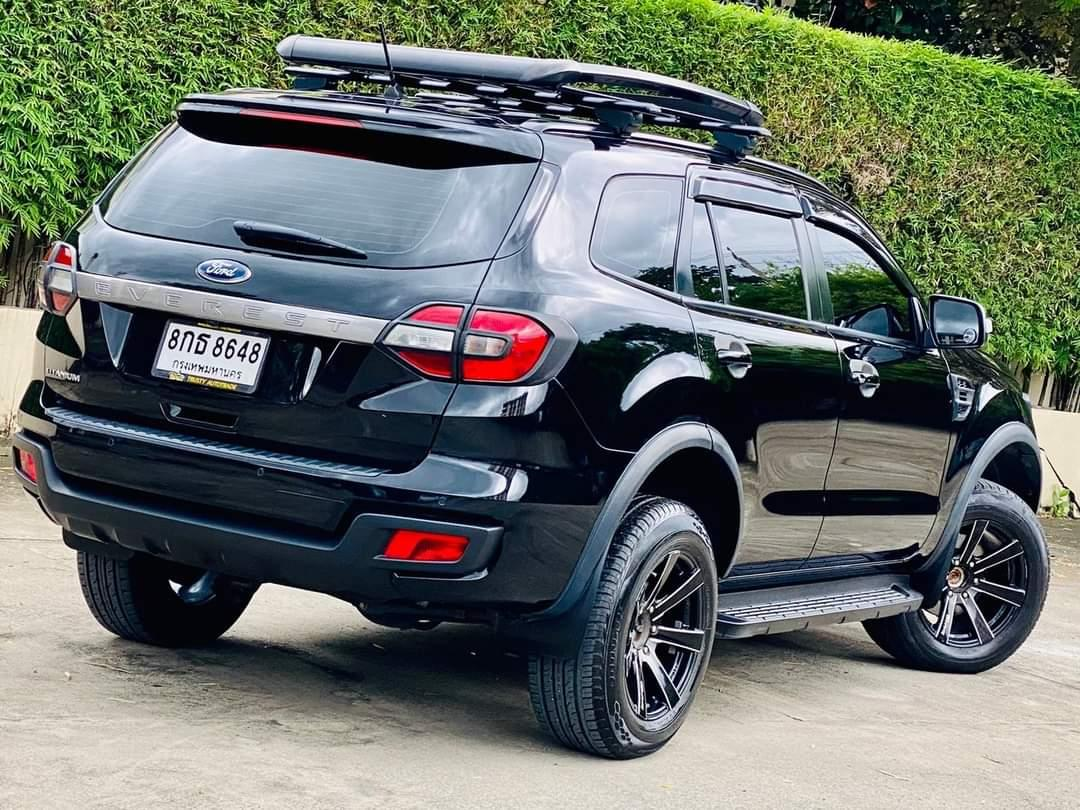license-plate: (148, 316, 274, 394)
